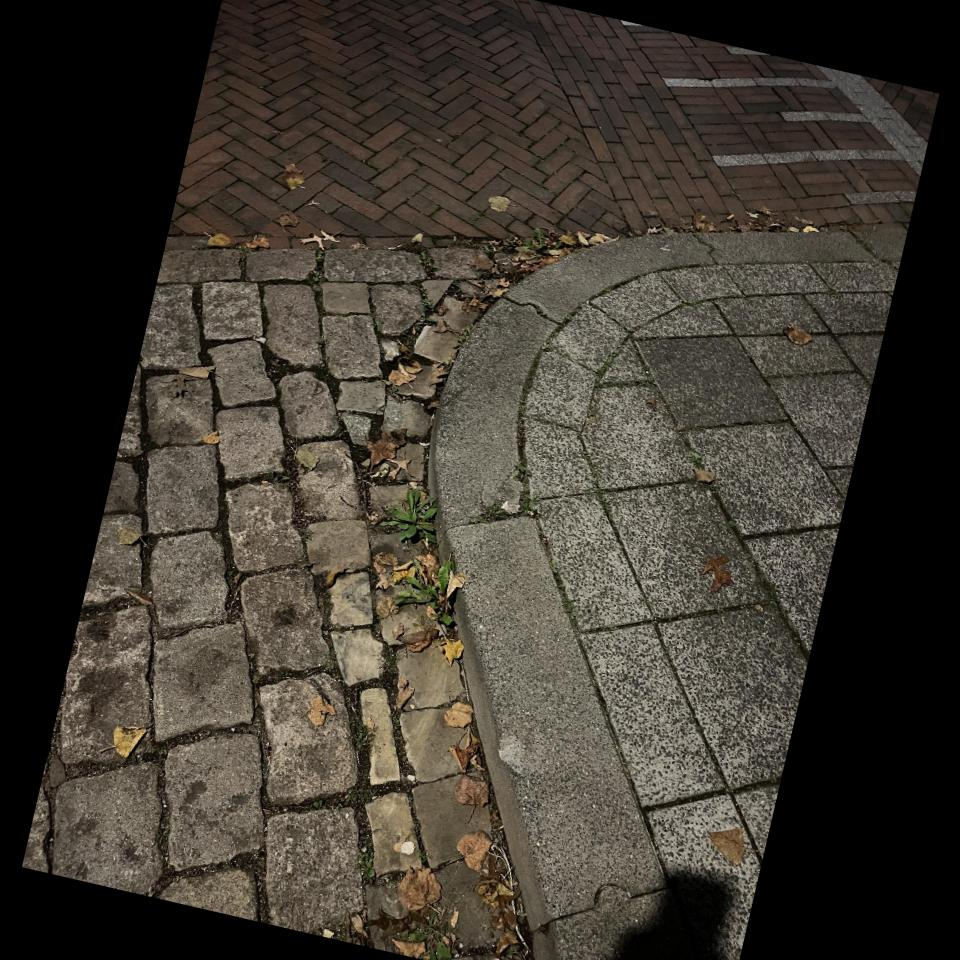weed: (395, 553, 467, 627), (395, 906, 453, 960), (385, 489, 436, 541), (474, 495, 537, 522)
